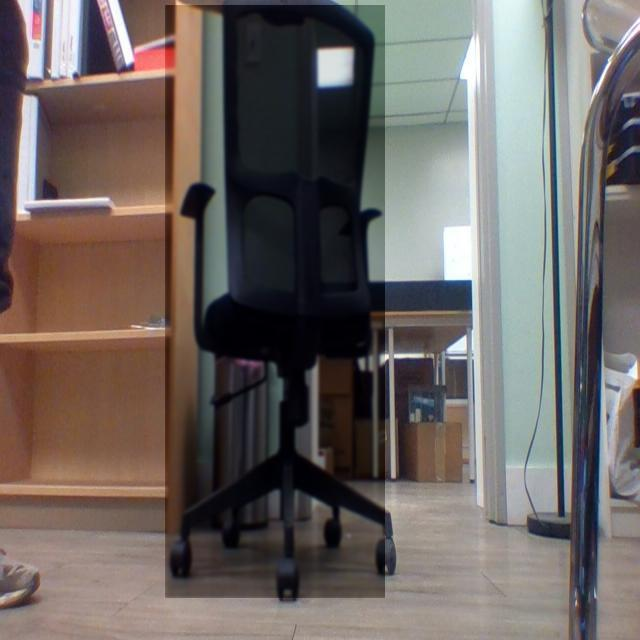chair: (149, 5, 415, 640)
light: (305, 25, 357, 97), (443, 37, 476, 76)
table: (274, 275, 467, 476)
